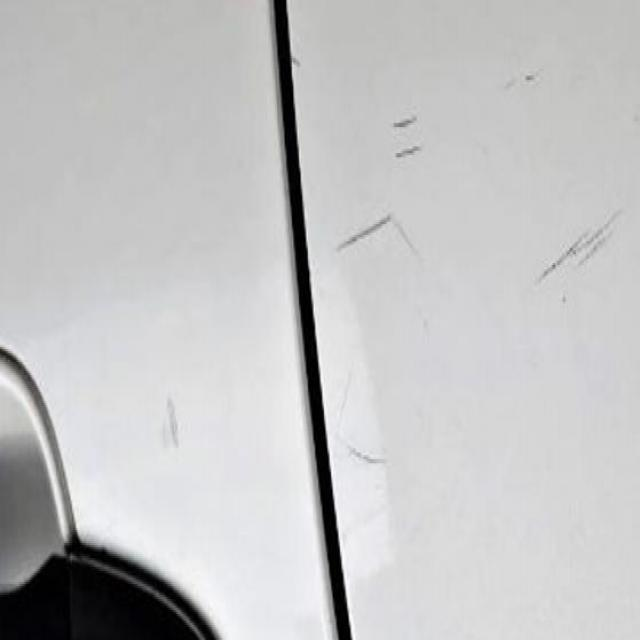scratch: (531, 183, 625, 321), (329, 204, 412, 268), (386, 100, 438, 178), (330, 424, 397, 484)
